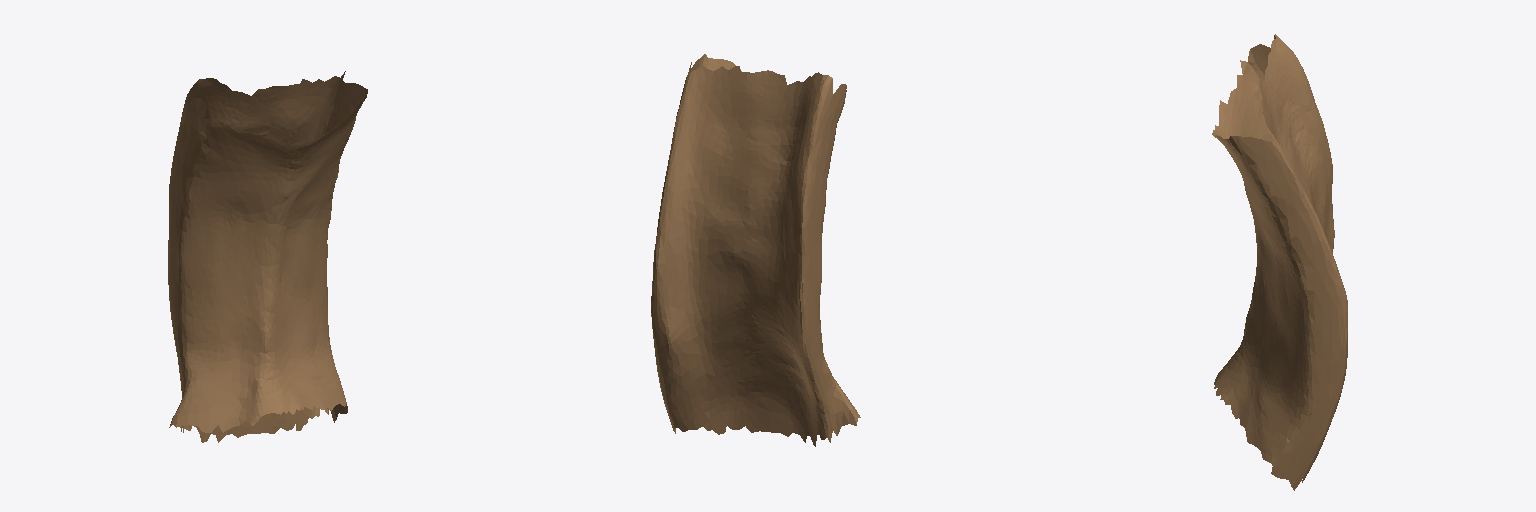
The model's file is corpus_callosum_body.obj.
The picture shows the model from 3 angles: view 1: azimuth 30°, elevation 25°; view 2: azimuth 150°, elevation 25°; view 3: azimuth 270°, elevation 25°; orthographic projection.
Visible parts, largest first — view 1: Corpus_Callosum_Body_Corpus_Callosum.001; view 2: Corpus_Callosum_Body_Corpus_Callosum.001; view 3: Corpus_Callosum_Body_Corpus_Callosum.001.
Boxes of the visible parts, x1=… form: Corpus_Callosum_Body_Corpus_Callosum.001: x1=168, y1=71, x2=367, y2=442; Corpus_Callosum_Body_Corpus_Callosum.001: x1=651, y1=54, x2=860, y2=446; Corpus_Callosum_Body_Corpus_Callosum.001: x1=1212, y1=34, x2=1347, y2=490.
Bounding box in the file's own units: 82.79 × 174 × 55.5.